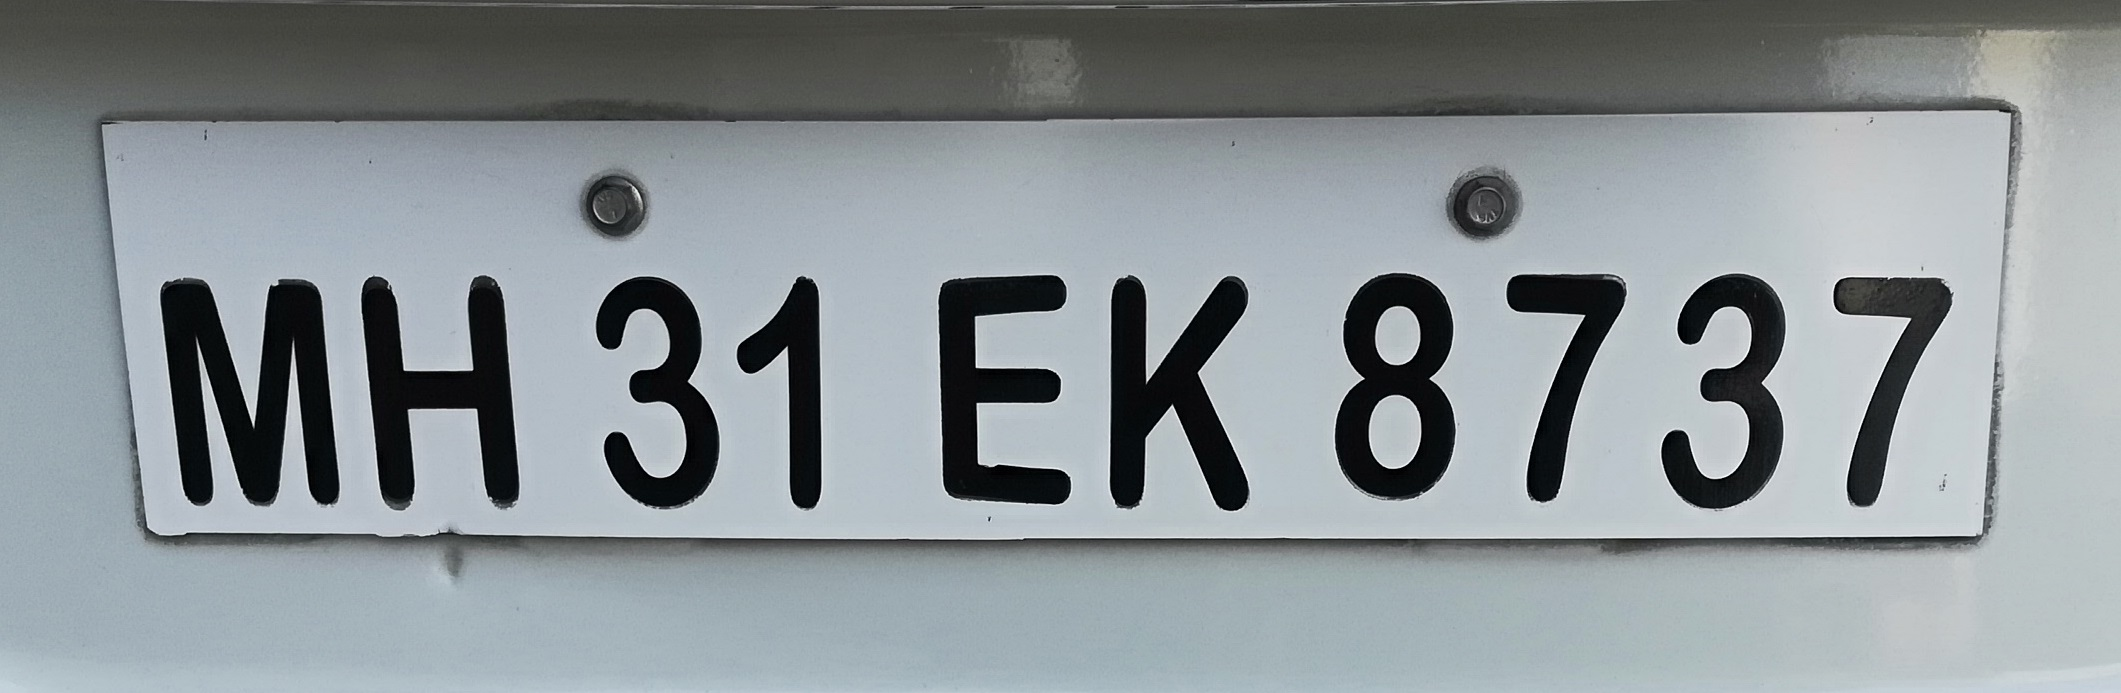numberplate: (96, 98, 2017, 549)
